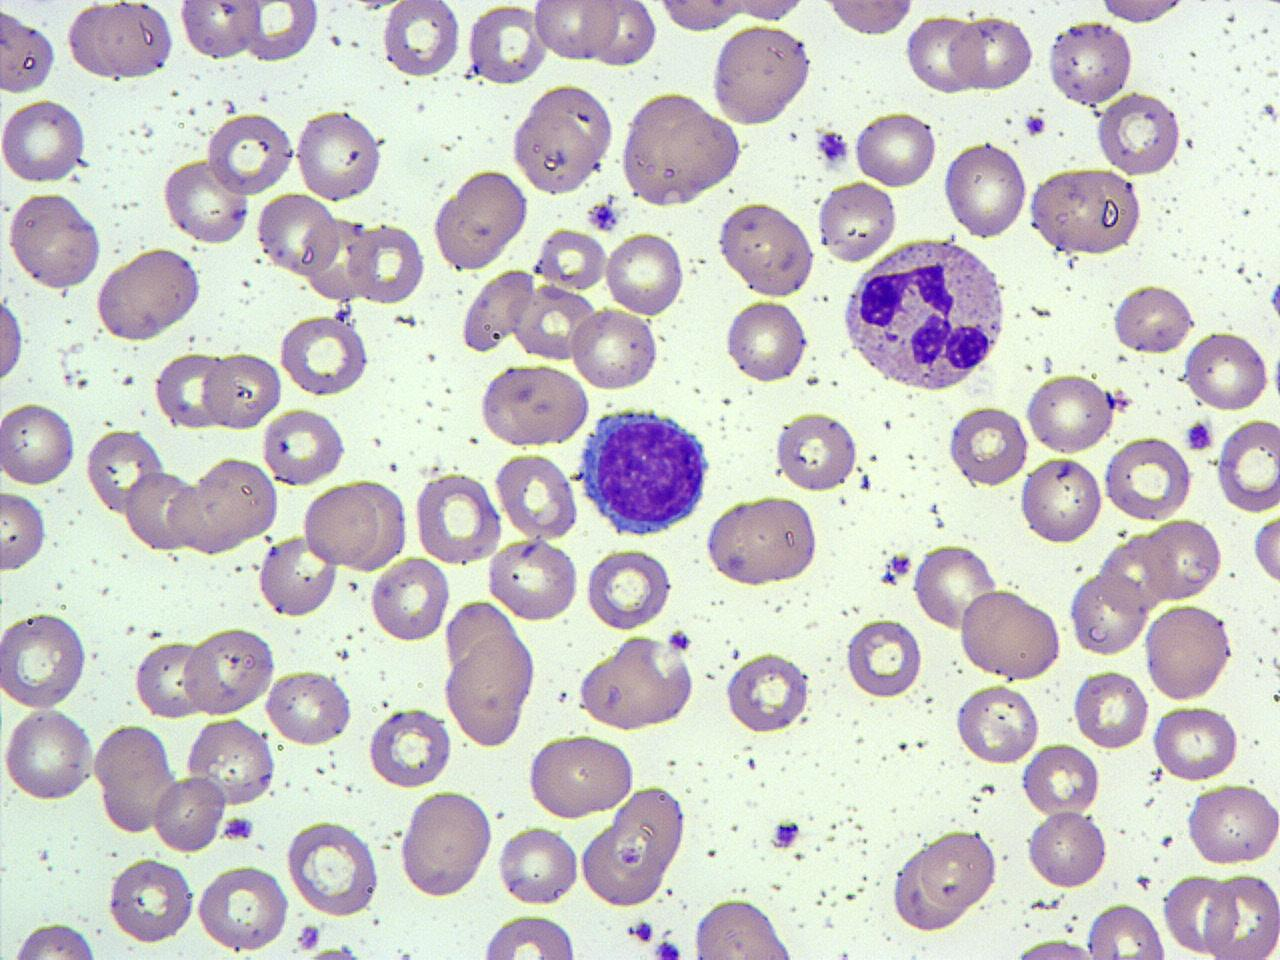Platelets: (816, 129, 851, 167), (586, 200, 620, 233), (1183, 419, 1215, 453), (770, 818, 802, 850), (310, 940, 360, 960), (220, 814, 255, 842), (295, 922, 323, 953), (630, 918, 658, 944), (886, 552, 913, 578), (666, 626, 692, 652), (654, 938, 682, 960), (1267, 276, 1280, 322), (1022, 113, 1045, 138), (879, 570, 898, 586)
RBC: (624, 92, 744, 208), (578, 789, 686, 911), (576, 636, 696, 732), (704, 493, 822, 589), (709, 22, 814, 128), (398, 788, 494, 901), (442, 631, 535, 747), (1028, 165, 1144, 257), (95, 247, 204, 344), (3, 191, 106, 291), (434, 166, 531, 271), (0, 703, 98, 806), (718, 199, 818, 299), (477, 362, 590, 450), (958, 587, 1062, 682), (526, 732, 638, 820), (284, 818, 382, 918), (93, 720, 177, 835), (0, 608, 89, 712), (1144, 602, 1234, 702), (942, 138, 1028, 242), (194, 862, 291, 954), (484, 534, 581, 626), (184, 624, 276, 720), (66, 0, 171, 83), (412, 471, 503, 565), (890, 836, 976, 935), (294, 107, 382, 203), (184, 716, 276, 807), (1102, 434, 1194, 524), (106, 856, 196, 948), (1018, 452, 1104, 548), (568, 305, 660, 394), (1184, 781, 1278, 868), (194, 454, 280, 548), (205, 109, 295, 198), (1046, 17, 1134, 108), (160, 156, 249, 245), (1095, 88, 1183, 178), (512, 104, 598, 196), (583, 546, 675, 632), (276, 313, 370, 397), (722, 296, 810, 385), (723, 649, 813, 736), (0, 96, 87, 186), (494, 450, 579, 542), (368, 552, 451, 646), (772, 408, 860, 496), (912, 542, 998, 632), (954, 681, 1042, 768), (166, 472, 254, 558), (494, 822, 580, 910), (1066, 568, 1150, 658), (1023, 372, 1113, 456), (254, 190, 340, 277), (1183, 329, 1271, 414), (603, 228, 686, 318), (84, 426, 166, 517), (946, 402, 1030, 490), (263, 666, 352, 749), (124, 465, 206, 555), (1151, 702, 1241, 784), (256, 532, 338, 620), (1200, 870, 1280, 960), (1024, 807, 1108, 892), (366, 707, 453, 789), (816, 177, 898, 264), (852, 108, 939, 190), (1145, 515, 1225, 603), (844, 614, 924, 702), (0, 399, 78, 489), (465, 4, 550, 86), (950, 12, 1036, 93), (259, 406, 346, 486), (302, 482, 380, 571), (690, 897, 800, 960), (348, 220, 426, 308), (202, 349, 283, 433), (1072, 665, 1150, 751), (459, 267, 534, 356), (918, 828, 999, 910), (380, 0, 462, 80), (132, 639, 211, 721), (151, 771, 228, 855), (1162, 870, 1236, 956), (1111, 282, 1197, 356), (1021, 740, 1101, 819), (154, 349, 230, 432), (906, 12, 980, 96), (1216, 418, 1280, 512), (529, 0, 619, 62), (349, 478, 409, 570), (234, 1, 319, 63), (0, 7, 57, 97), (584, 0, 658, 69), (477, 910, 582, 958), (176, 0, 258, 61), (1083, 900, 1169, 958), (534, 227, 609, 291), (0, 488, 48, 574), (818, 0, 918, 38), (6, 920, 100, 960), (654, 0, 748, 35), (1006, 936, 1112, 960), (1096, 0, 1190, 27), (0, 291, 26, 388), (1250, 513, 1280, 590)
WBC: (838, 232, 1008, 398), (576, 402, 716, 540), (516, 88, 612, 196), (65, 1, 176, 86), (722, 650, 816, 738), (646, 0, 752, 32)
